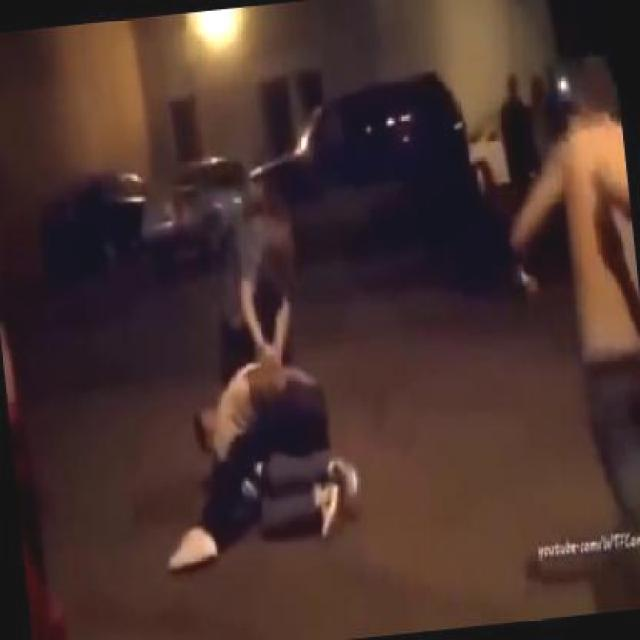fight: (184, 210, 346, 568)
